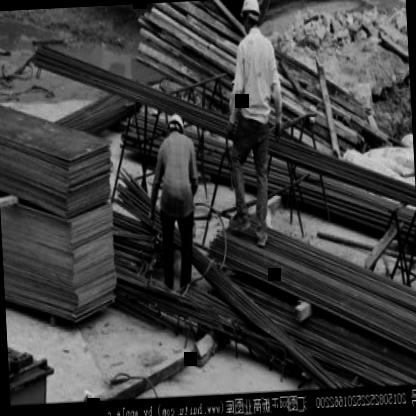helmet: (163, 111, 186, 145), (239, 0, 262, 33)
